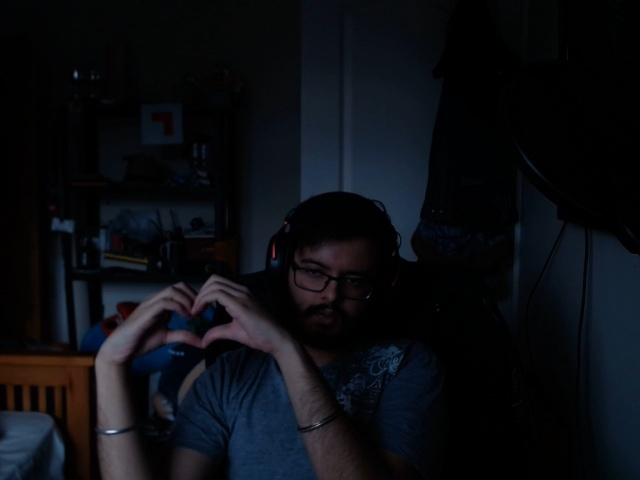Heart: (119, 282, 269, 346)
